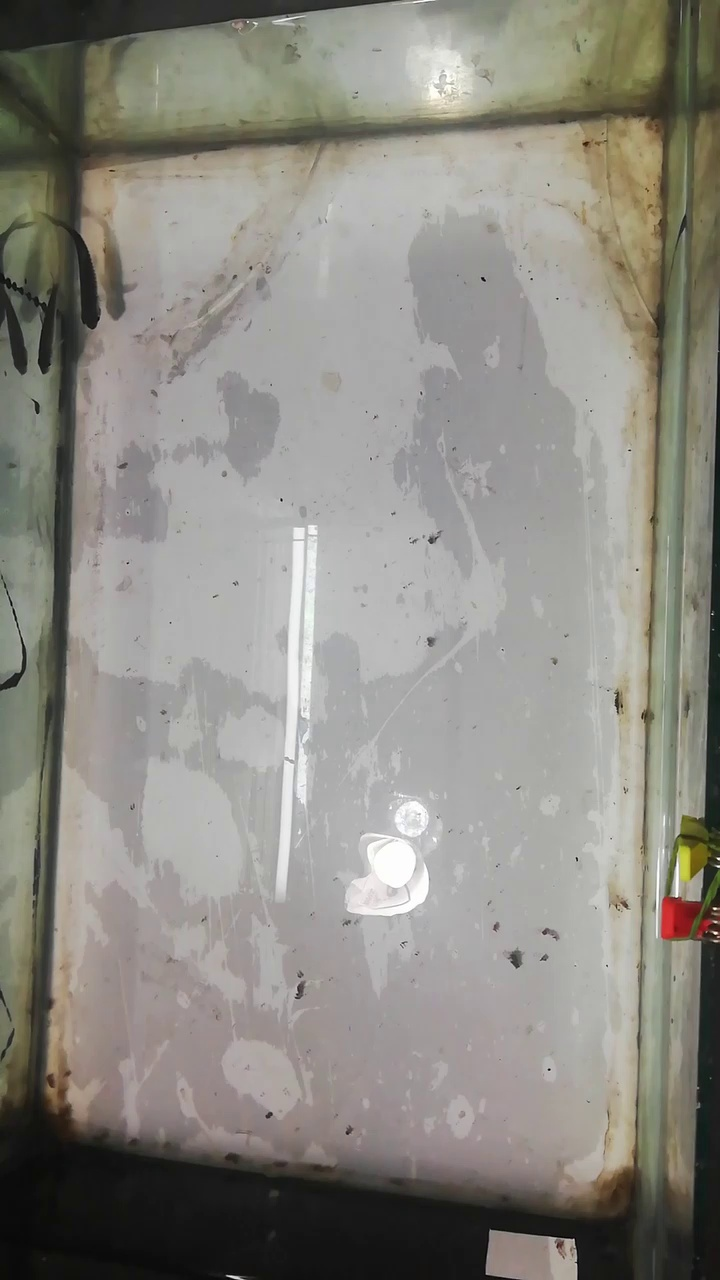fish1: (50, 217, 114, 326)
fish2: (37, 283, 65, 373)
